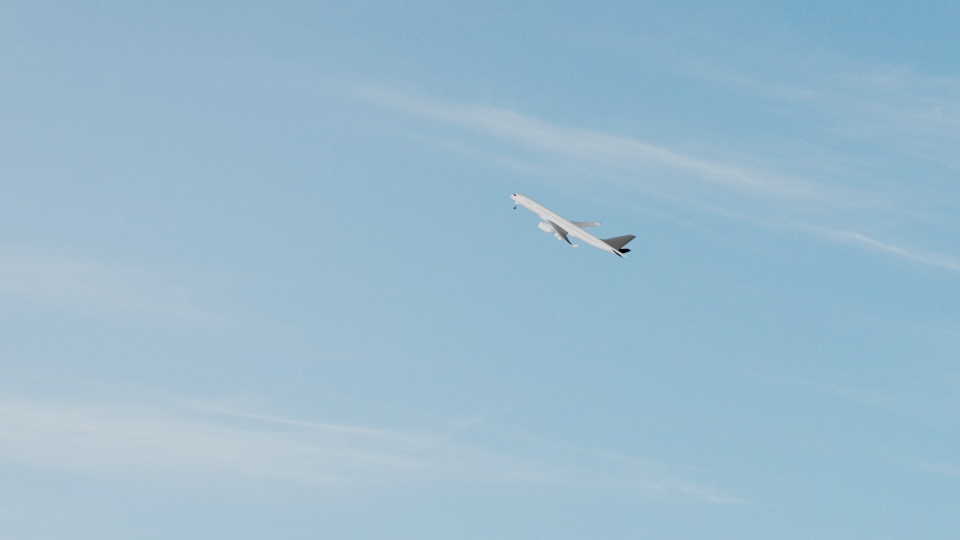plane: (509, 190, 638, 260)
